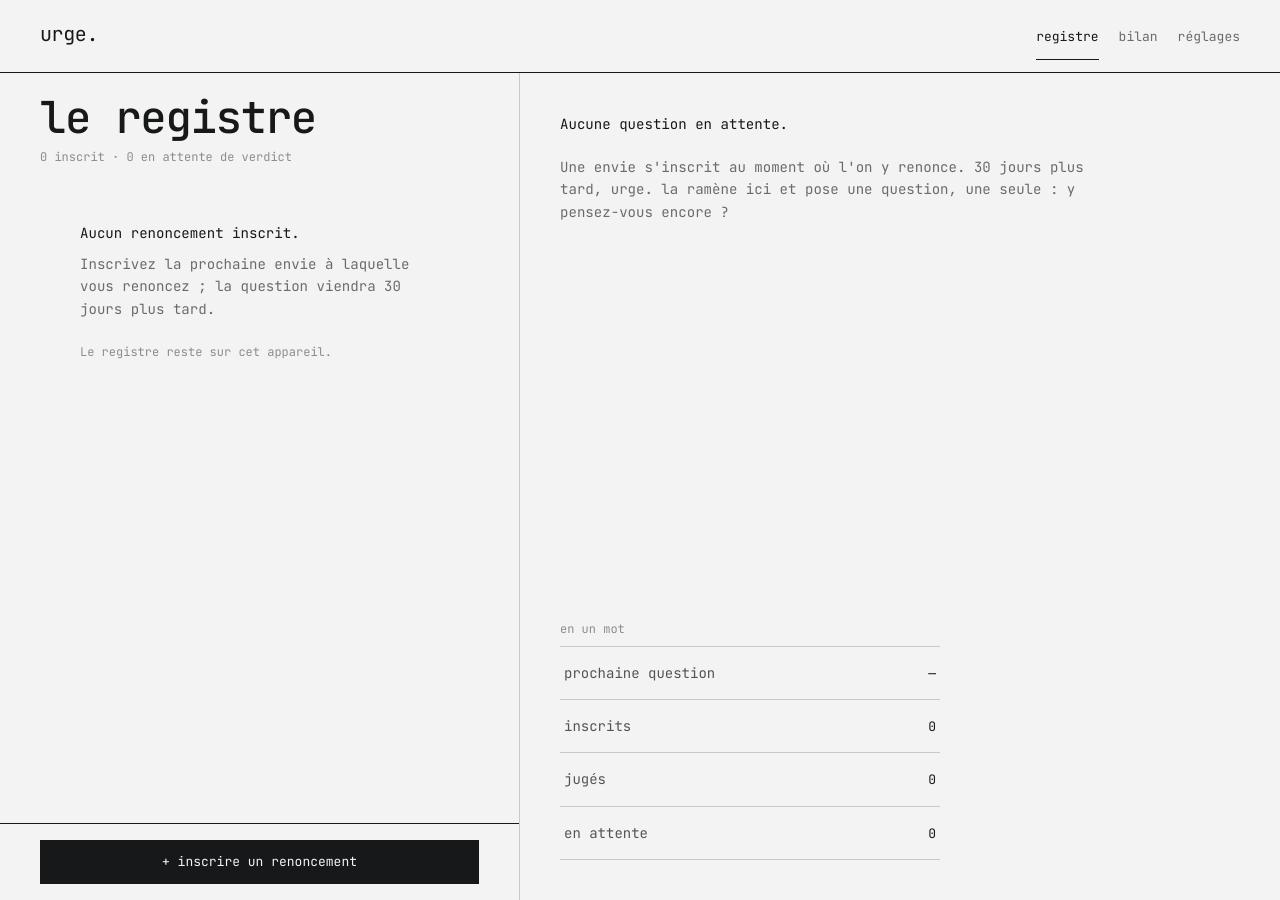
Test: inscrire un renoncement › refuse une ligne sans nom, et le dit
Click the button "+ inscrire un renoncement" at (260, 862), box [40,840,479,884]
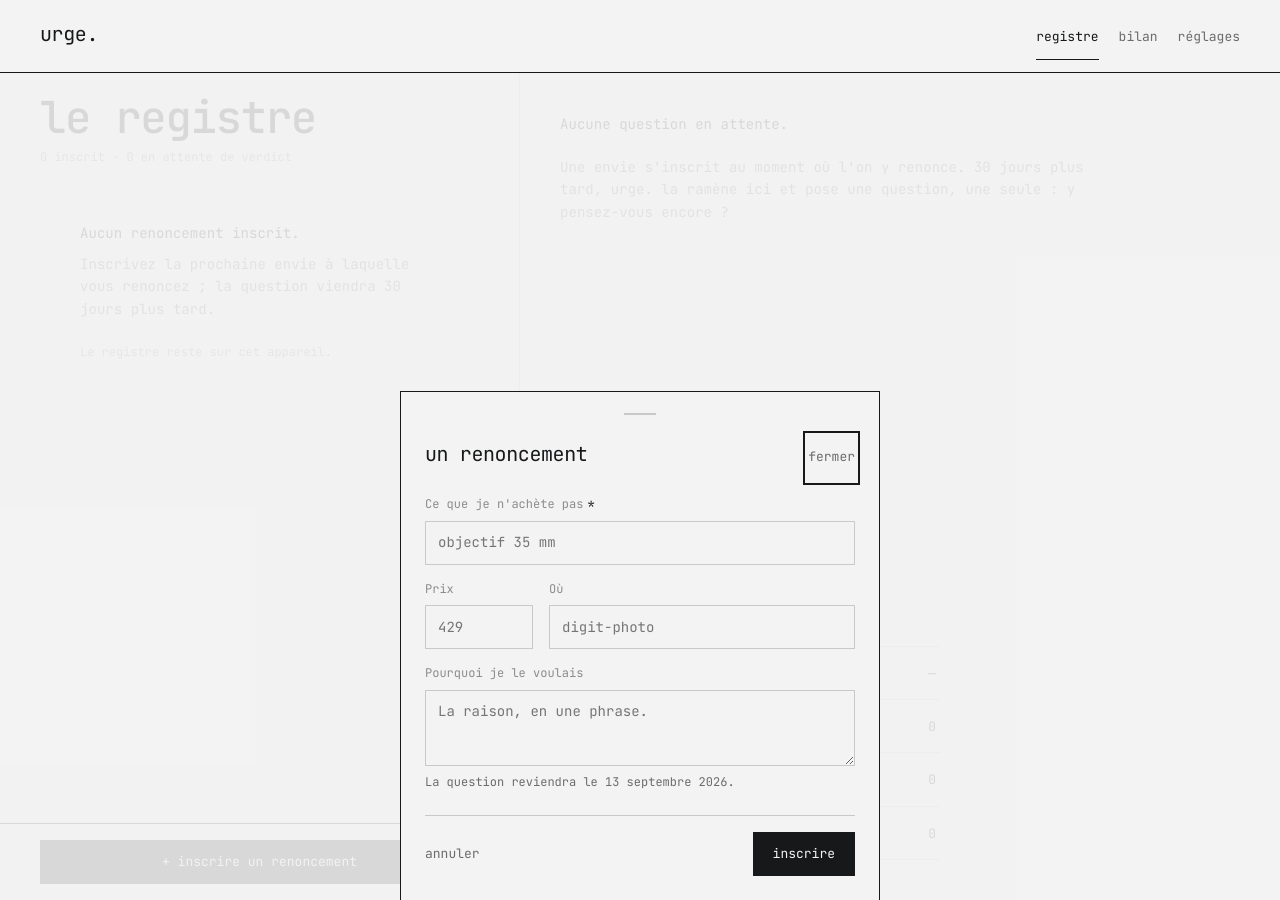
Click the button "inscrire" at (804, 854), box [753,832,855,876]
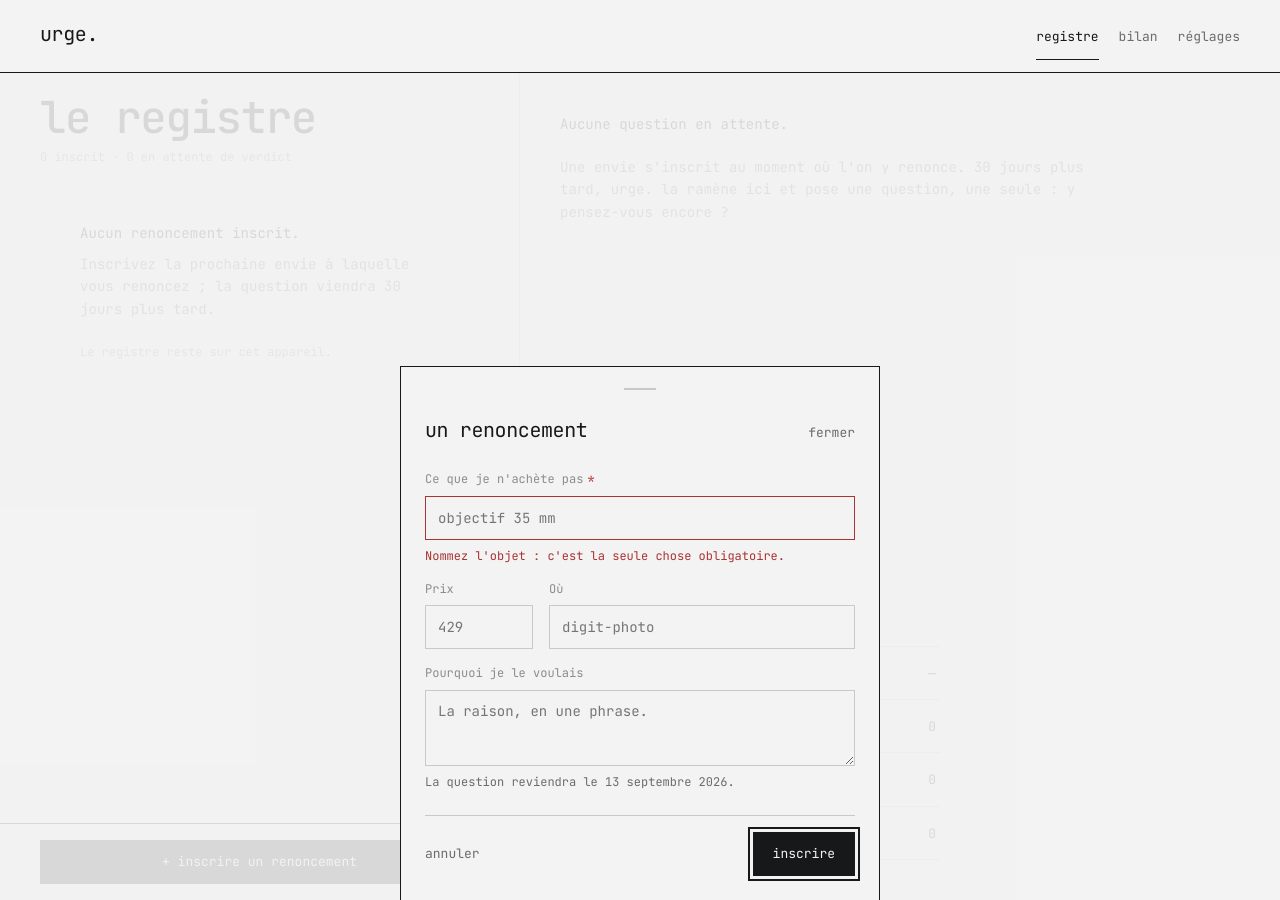
Now the message shows "Nommez l'objet", box [425,548,785,564]
